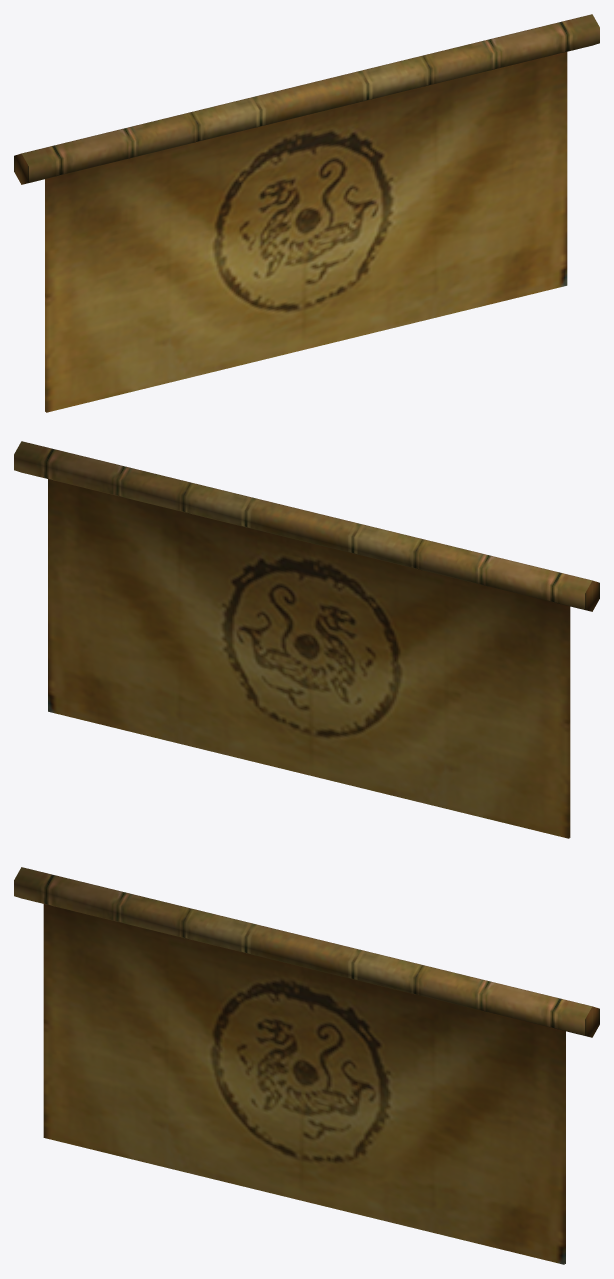
The model's file is YZC_MJ_ZA_01.FBX.
3 views of the same model, one above another, from view 1: azimuth 30°, elevation 25°; view 2: azimuth 150°, elevation 25°; view 3: azimuth 330°, elevation 25° (orthographic).
Visible parts, largest first — view 1: YZC_MJ_ZA_01; view 2: YZC_MJ_ZA_01; view 3: YZC_MJ_ZA_01.
Part boxes in pixels (x1,y1,x2,y2): YZC_MJ_ZA_01: (14,14,599,412); YZC_MJ_ZA_01: (14,441,599,838); YZC_MJ_ZA_01: (14,867,599,1264).
Bounding box in the file's own units: 225 × 99.31 × 10.25.
